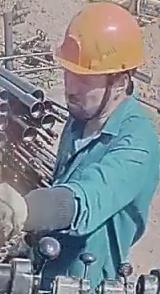gloves: (0, 181, 32, 249)
helmet: (57, 1, 144, 80)
vest: (49, 97, 159, 283)
